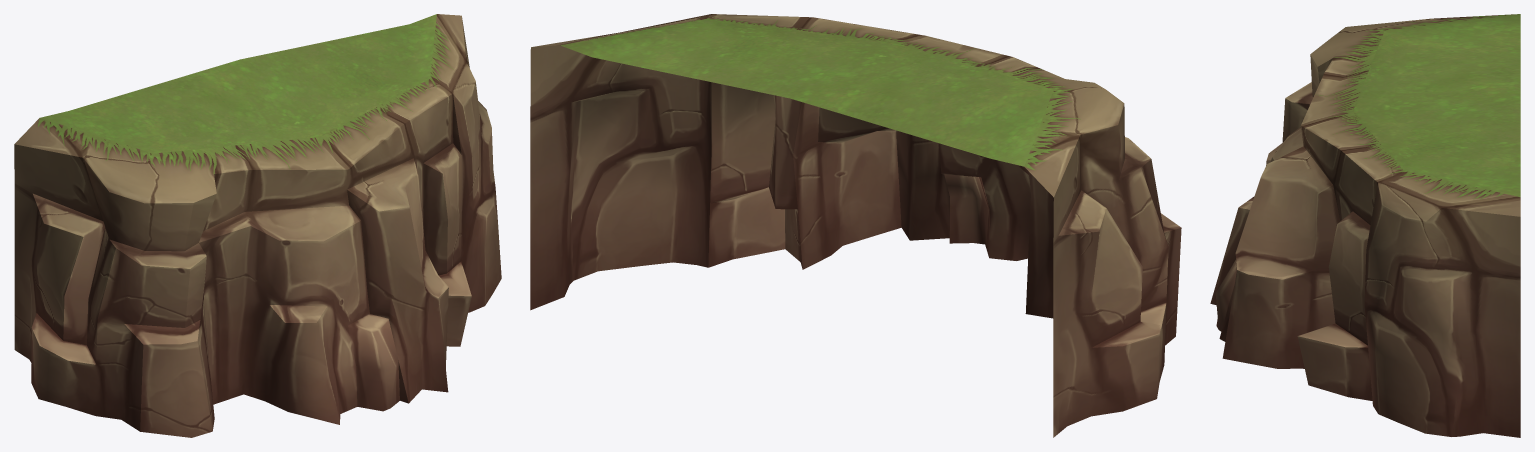
Rendered from Cliff #3.FBX.
3 renders of one model, left to right at view 1: azimuth 30°, elevation 25°; view 2: azimuth 150°, elevation 25°; view 3: azimuth 270°, elevation 25°, orthographic. The views are drawn at different scales.
Parts seen in each view (by area): view 1: Cliff #3; view 2: Cliff #3; view 3: Cliff #3.
Part boxes in pixels (x1=…): Cliff #3: x1=14, y1=14, x2=501, y2=437; Cliff #3: x1=530, y1=14, x2=1181, y2=437; Cliff #3: x1=1210, y1=14, x2=1520, y2=437.
Size of the model in its own units: 714 by 335 by 407.
Materials: 1 (1 with a texture image).
